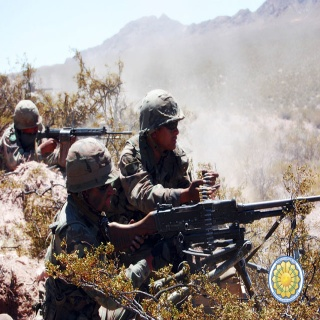rifle: (107, 193, 320, 309), (19, 126, 136, 168)
